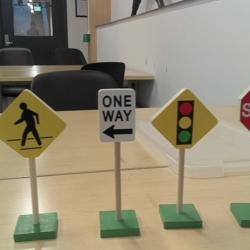one_way: (98, 89, 136, 142)
pedestrian_crossing: (0, 88, 67, 158)
stop: (239, 89, 250, 134)
traffic_signal: (152, 87, 218, 149)
